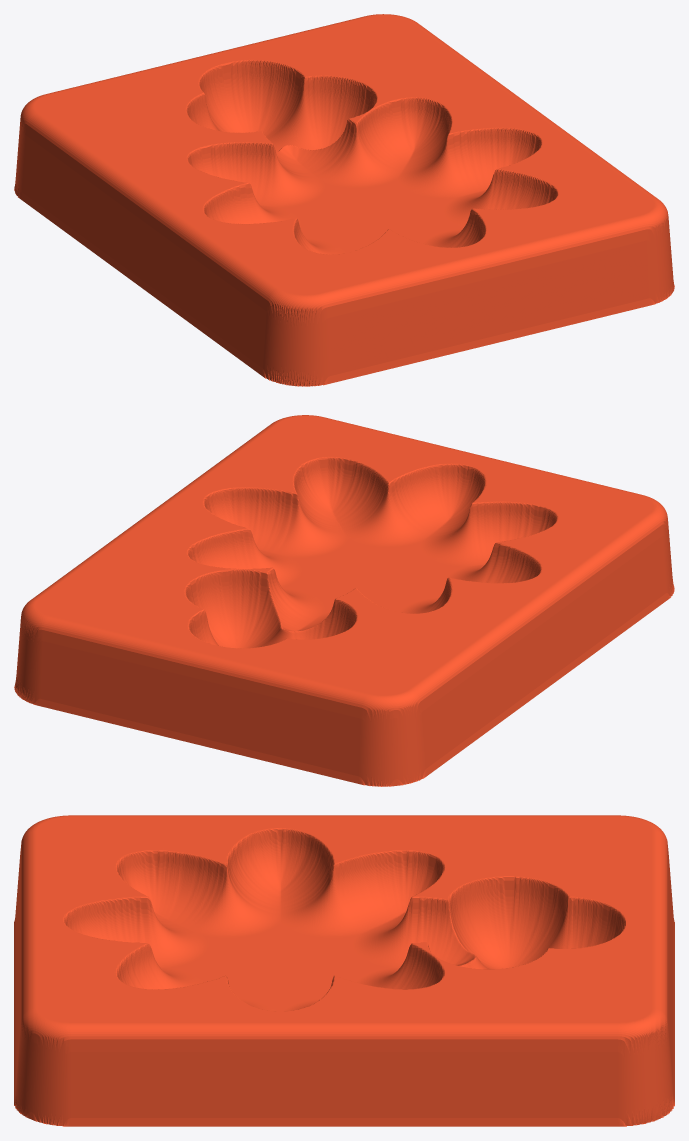
Rendered from mold.glb.
The picture shows the model from 3 angles, top to bottom: view 1: azimuth 30°, elevation 25°; view 2: azimuth 150°, elevation 25°; view 3: azimuth 270°, elevation 25°; orthographic projection. The views are drawn at different scales.
Visible parts, largest first — view 1: geometry_0; view 2: geometry_0; view 3: geometry_0.
Boxes of the visible parts, box(x1,y1,x2,y2) form: geometry_0: box(14, 14, 674, 386); geometry_0: box(14, 415, 674, 786); geometry_0: box(14, 815, 674, 1126).
Bounding box in the file's own units: 0.0846 × 0.0165 × 0.105.
